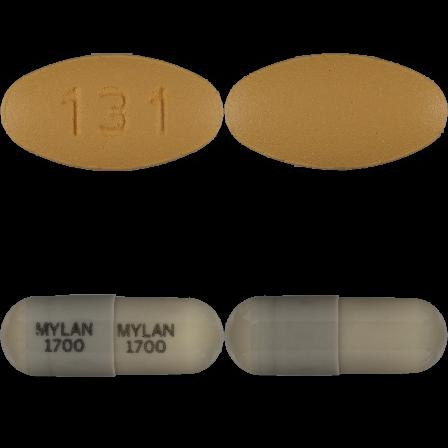35356-679: (0, 0, 224, 224)
